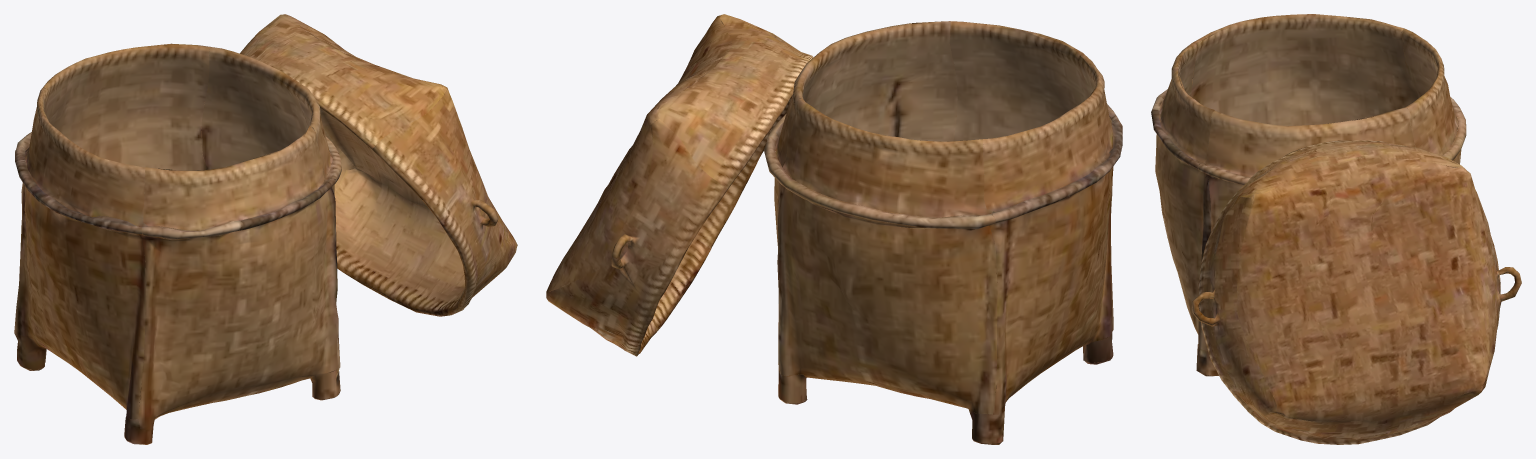
The model's file is wicker_basket_02.glb.
3 views of the same model, side by side, from view 1: azimuth 30°, elevation 25°; view 2: azimuth 150°, elevation 25°; view 3: azimuth 270°, elevation 25° (orthographic). The views are drawn at different scales.
Visible parts, largest first — view 1: wicker_basket_02_base, wicker_basket_02_lid; view 2: wicker_basket_02_base, wicker_basket_02_lid; view 3: wicker_basket_02_lid, wicker_basket_02_base.
Part boxes in pixels (x1,y1,x2,y2): wicker_basket_02_base: (14, 43, 341, 444); wicker_basket_02_lid: (240, 14, 517, 316); wicker_basket_02_base: (764, 21, 1122, 444); wicker_basket_02_lid: (546, 14, 813, 356); wicker_basket_02_lid: (1192, 140, 1521, 444); wicker_basket_02_base: (1151, 14, 1466, 376).
Size of the model in its own units: 0.3465 by 0.2005 by 0.2545.
1 material, 1 textured.
